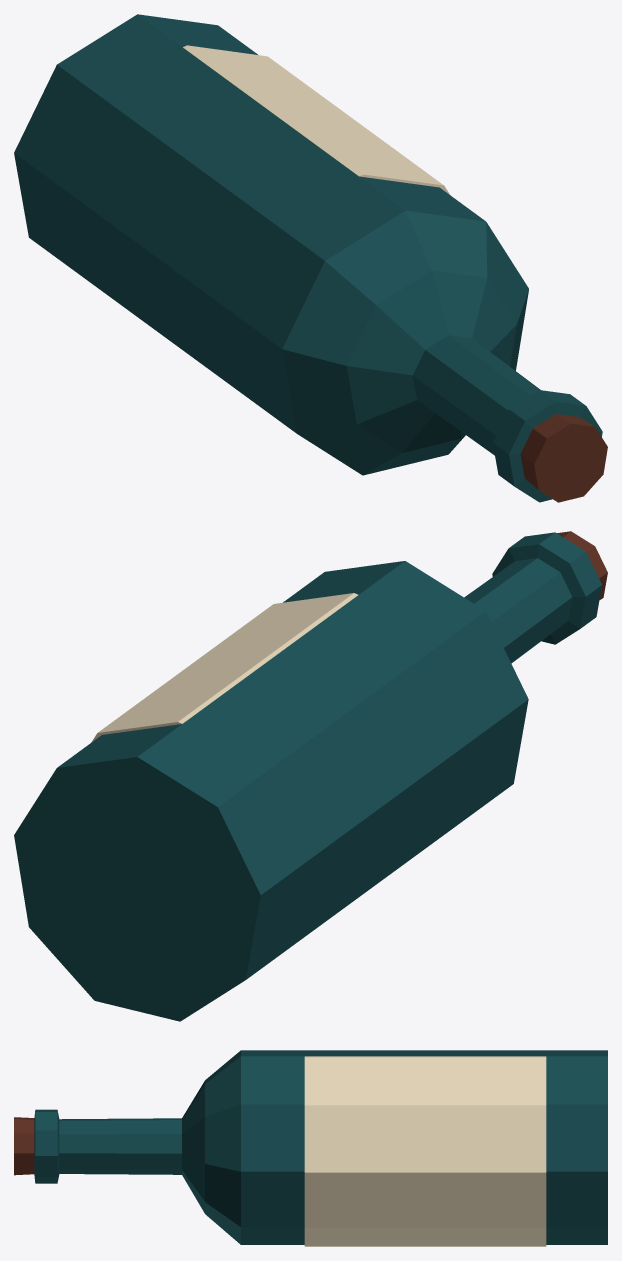
The model's file is botella.fbx.
3 views of the same model, one above another, from view 1: azimuth 30°, elevation 25°; view 2: azimuth 150°, elevation 25°; view 3: azimuth 270°, elevation 25° (orthographic). The views are drawn at different scales.
Visible parts, largest first — view 1: Cylinder; view 2: Cylinder; view 3: Cylinder.
Part boxes in pixels (x1,y1,x2,y2): Cylinder: [14, 14, 607, 502]; Cylinder: [14, 531, 607, 1021]; Cylinder: [14, 1050, 607, 1246].
Size of the model in its own units: 201 by 195 by 599.
